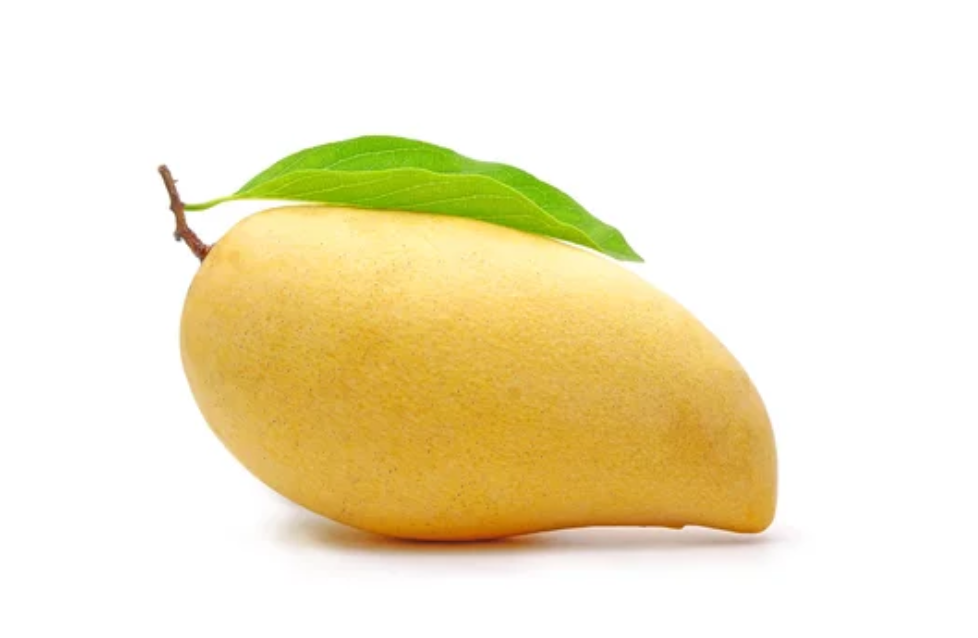mango: (179, 196, 779, 542)
